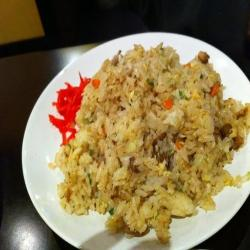rice: (51, 46, 236, 229)
